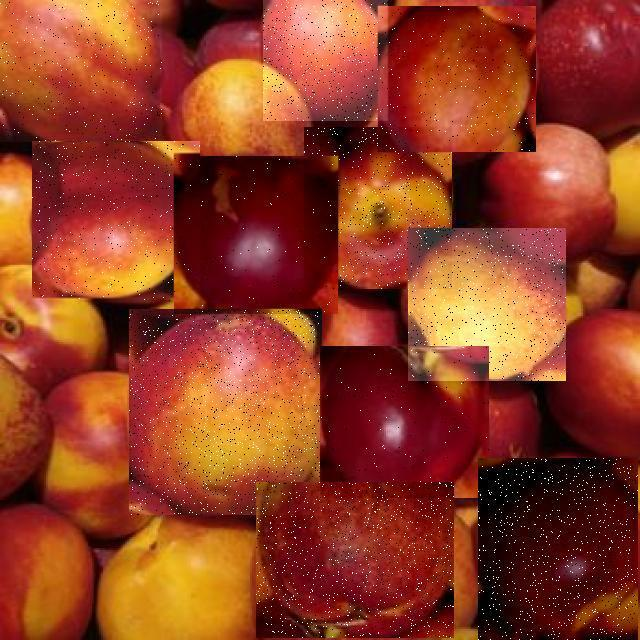Nectarine: (129, 309, 322, 515), (256, 482, 454, 638), (478, 458, 638, 640), (32, 142, 200, 302), (175, 157, 339, 315), (320, 346, 489, 498), (409, 228, 567, 381), (304, 127, 452, 289), (378, 6, 536, 152), (0, 0, 162, 142), (263, 0, 388, 121)
